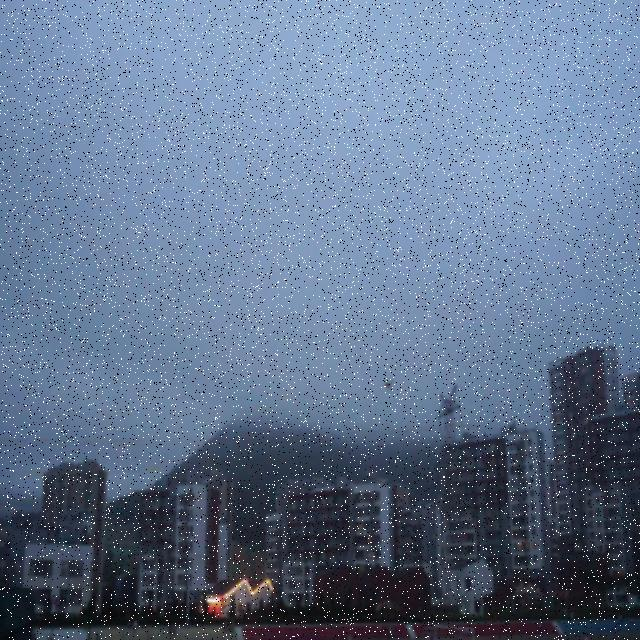UAV: (382, 378, 394, 392)
